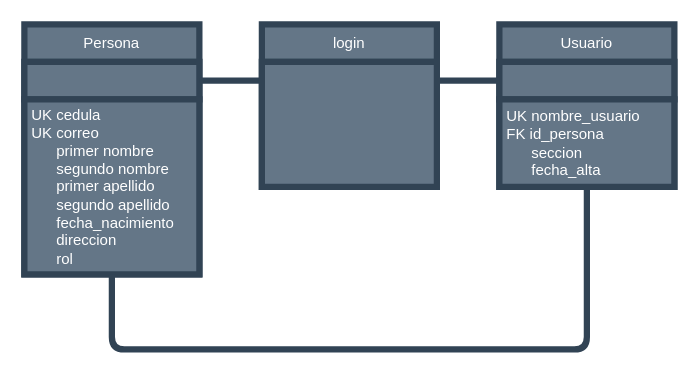
This 699x375 diagram has some shape labels left out. Each missing label, with the centre of its shape:
"PK id_persona" belongs at pixel 111 80.
"PK id_usuario" belongs at pixel 586 80.
"PK id_usuario PK id_persona fecha_ingreso hora_ingreso hora_salida fecha_salida" belongs at pixel 348 123.
